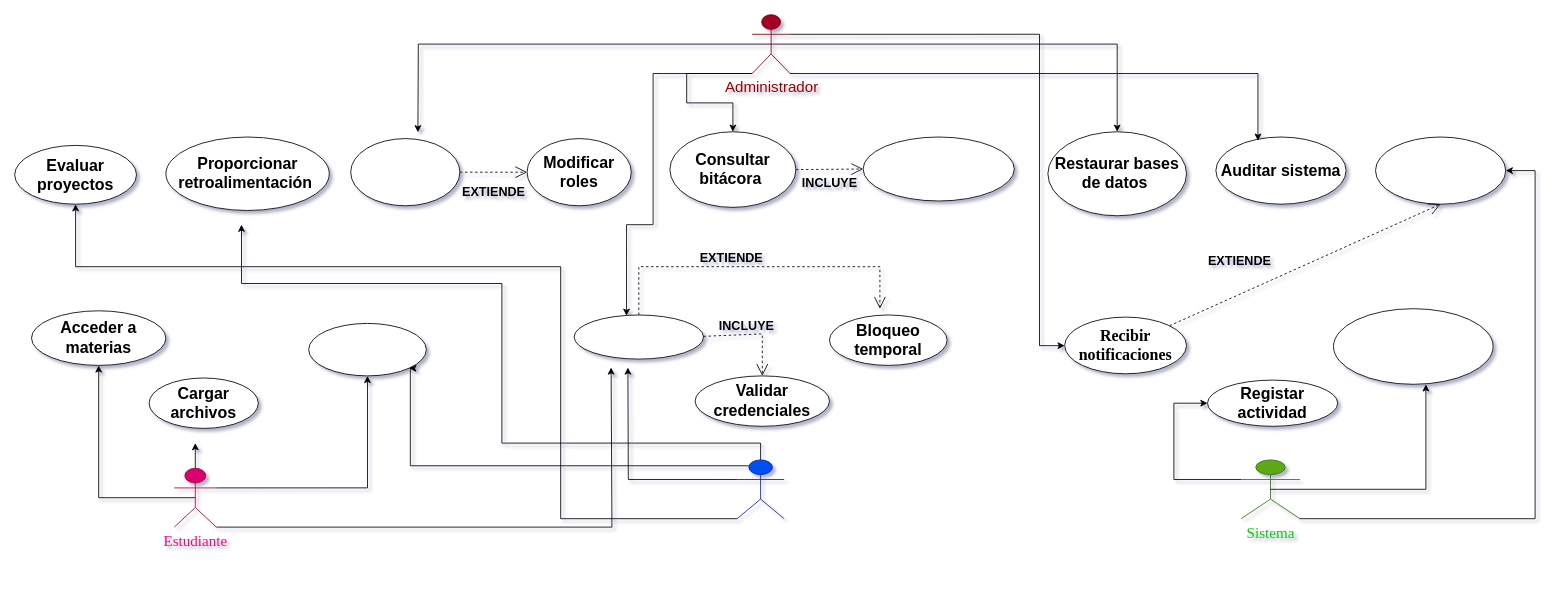
This 1562x589 diagram has some shape labels left out. Here are the shapes that lost their labels. From the top down, the box of each, then its label:
(350, 138, 460, 206): Gestionar sistemas
(862, 136, 1014, 201): Filtrar / Exportar registros
(1375, 136, 1506, 204): Realizar copia de seguridad
(308, 323, 426, 376): Acceder a proyectos
(573, 314, 704, 359): Iniciar sesión
(1333, 308, 1493, 384): Detectar comportamientos inusuales
(736, 459, 784, 519): Docente
